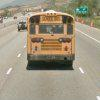Bus: (23, 9, 77, 70)
